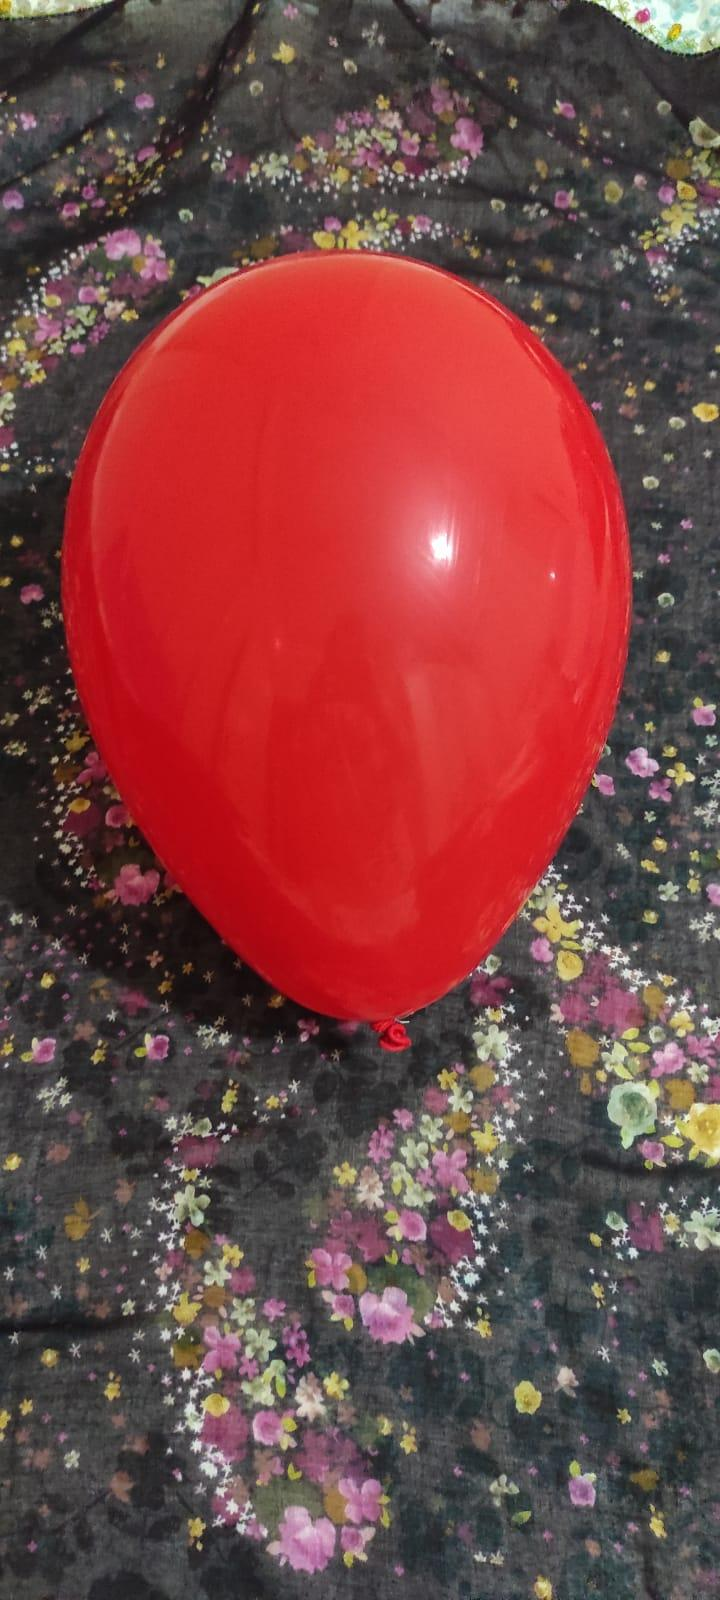red: (54, 238, 640, 1044)
